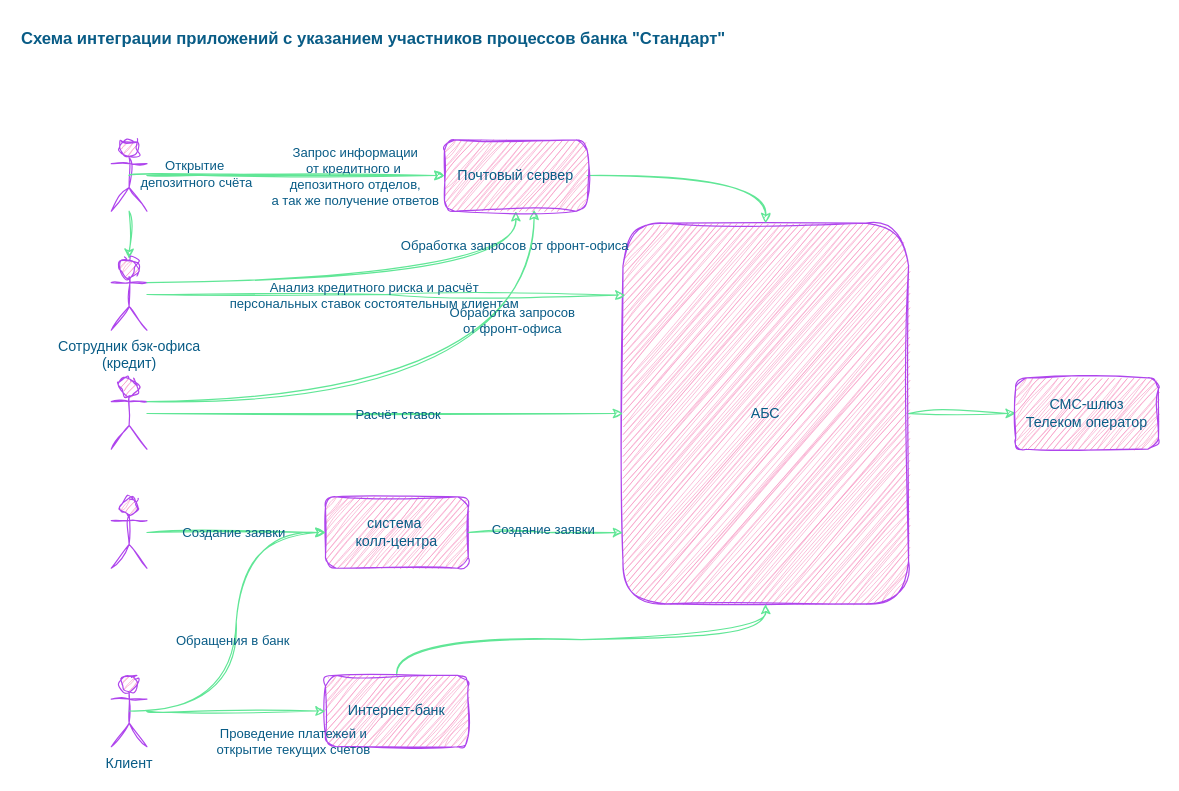
Image size: 1179x791. Some labels were removed from this diagram. Each missing label, with the centre of its shape:
Колл-центр: (x=128, y=532)
Сотрудник бэк-офиса (депозит): (x=128, y=413)
Сотрудник фронт-офиса: (x=128, y=175)
